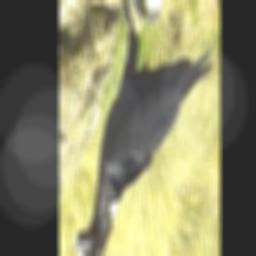Crow: (74, 0, 215, 256)
